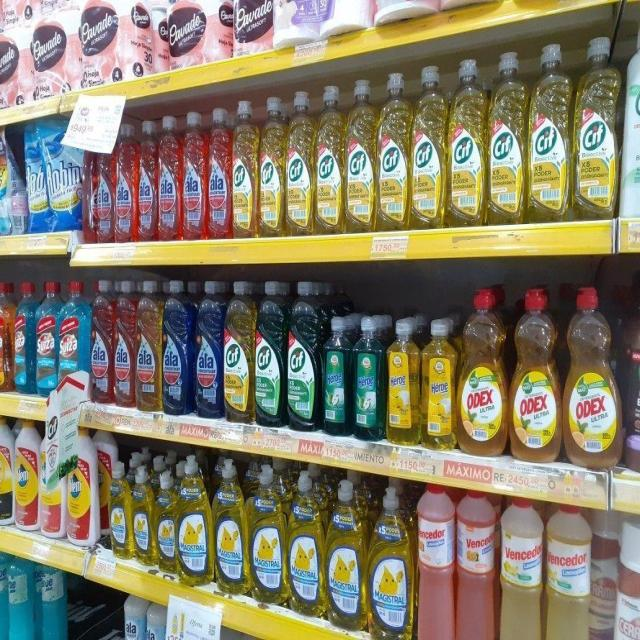ala_conc_amarillo: (136, 279, 162, 413)
ala_conc_azul: (162, 279, 192, 416), (194, 280, 222, 419)
ala_conc_rojo: (207, 106, 231, 240), (182, 110, 206, 241), (158, 114, 181, 242), (90, 278, 113, 406), (113, 279, 135, 411), (115, 121, 137, 244), (93, 123, 114, 244), (138, 119, 157, 242)
ala_crem_blanco: (124, 594, 145, 640), (146, 600, 164, 640), (165, 604, 183, 640)
cif_conc_bot_amarilla: (572, 34, 618, 221), (528, 41, 570, 222), (488, 49, 526, 225), (447, 56, 486, 227), (411, 64, 445, 230), (377, 71, 410, 231), (345, 76, 376, 233), (315, 82, 344, 236), (224, 280, 254, 424), (285, 90, 314, 236), (232, 98, 258, 239), (259, 95, 284, 238)
cif_conc_botella_verde: (287, 280, 320, 432), (255, 280, 285, 428)
heroe: (421, 317, 457, 451), (387, 316, 420, 446), (0, 549, 7, 640)
magistral_con_amarillo: (368, 484, 413, 640), (326, 478, 366, 632), (287, 470, 324, 617), (249, 462, 285, 604), (214, 457, 247, 595), (177, 456, 212, 586), (156, 469, 177, 575), (109, 460, 131, 560), (133, 464, 154, 566)
odex: (562, 285, 622, 467), (509, 286, 561, 461), (459, 287, 508, 455)
